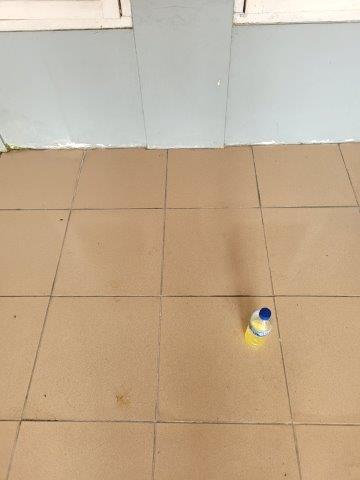botolplastik: (246, 308, 274, 347)
